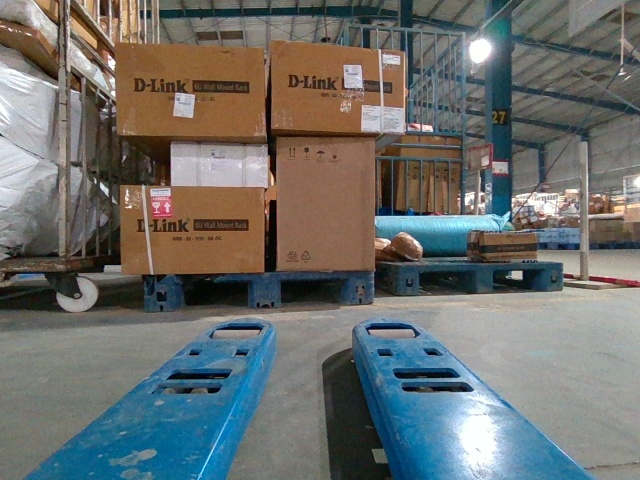block: (245, 272, 282, 311), (144, 274, 182, 311), (342, 273, 375, 308), (392, 263, 422, 295), (471, 265, 495, 294), (538, 262, 562, 291)
front: (144, 272, 374, 312), (394, 260, 564, 295)
hole pallet: (178, 281, 248, 314), (281, 278, 343, 307), (420, 272, 472, 298), (493, 269, 544, 294)
